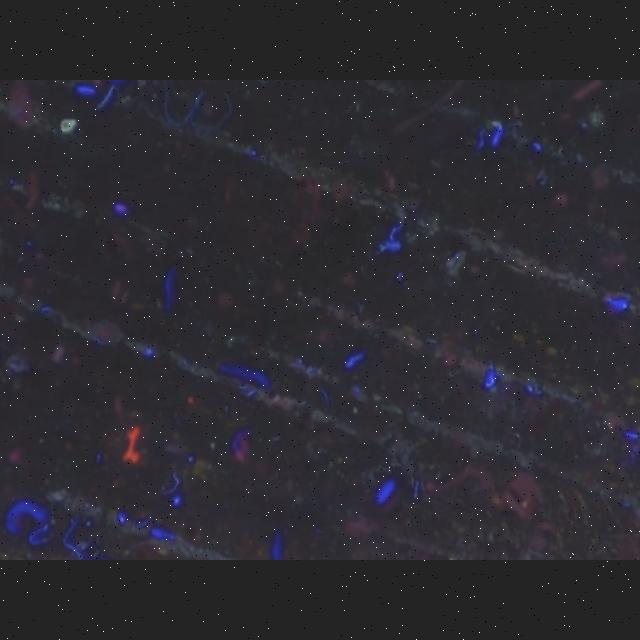microbeads: (58, 115, 78, 133)
